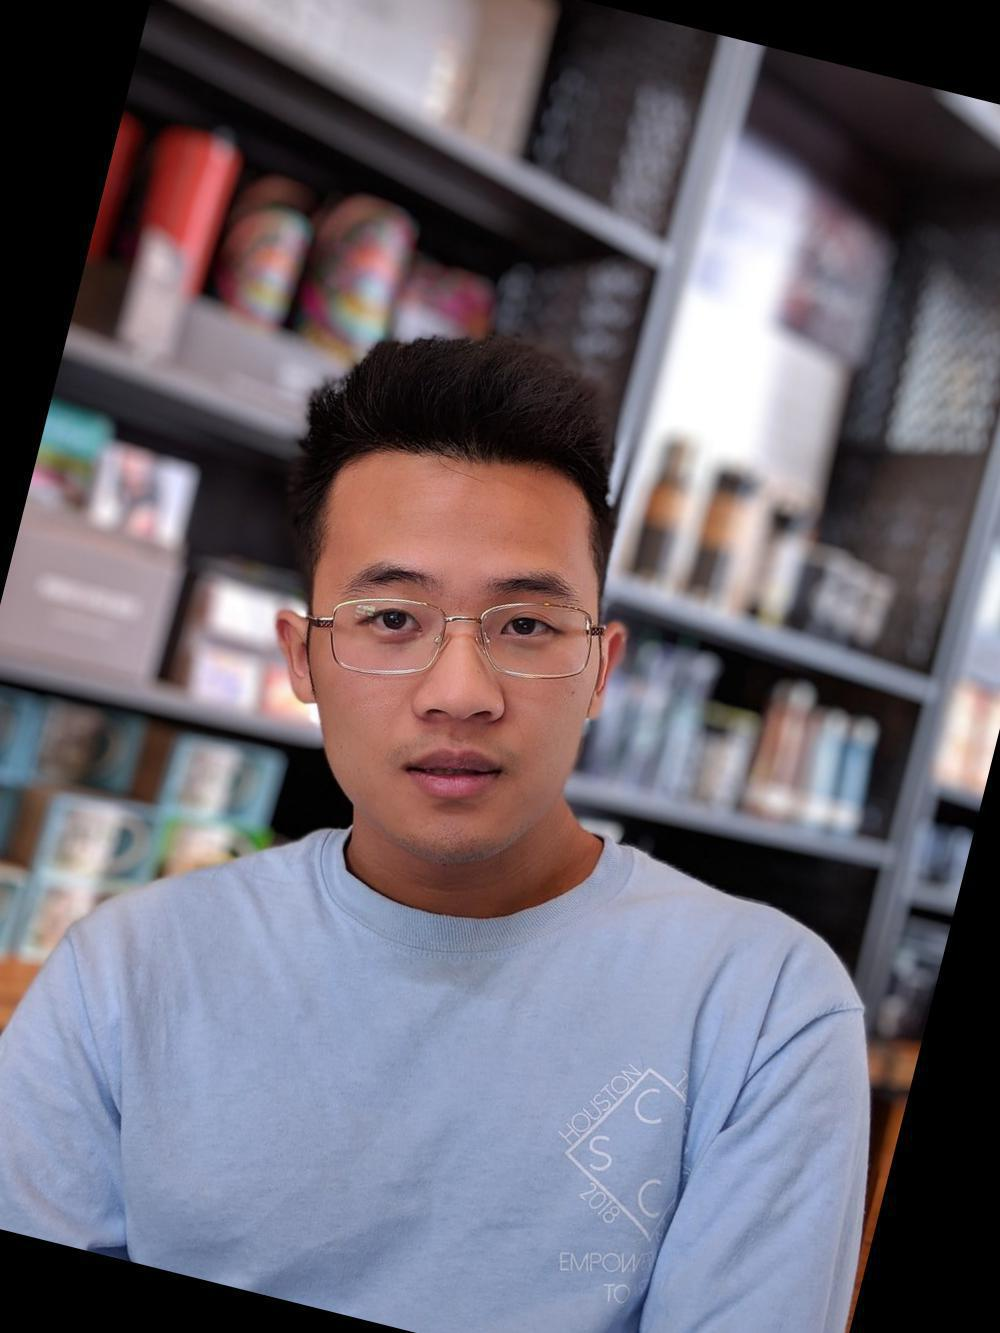Sober: (338, 474, 592, 843)
